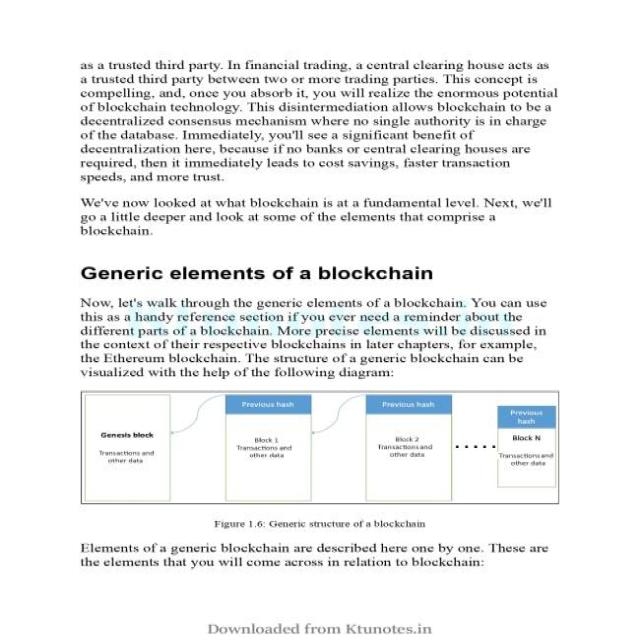Figure Detection - v3 Dataset Version2: (73, 384, 568, 511)
